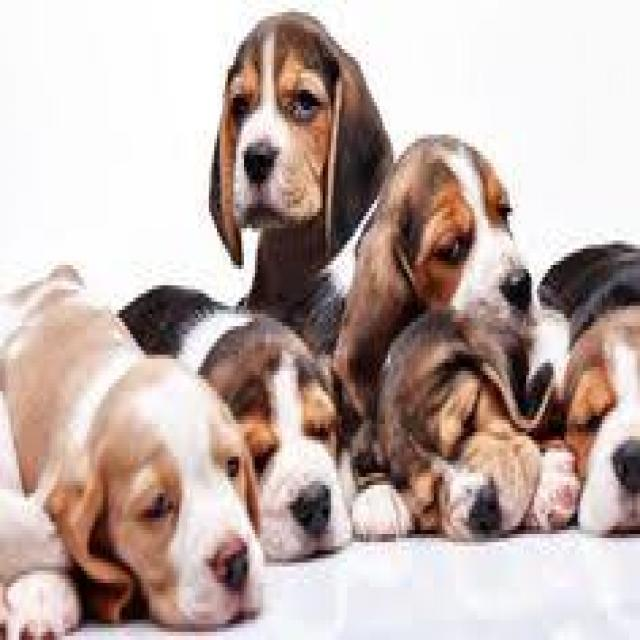Dog: (51, 340, 269, 640), (198, 5, 393, 267), (367, 327, 535, 542), (221, 312, 359, 560), (386, 127, 537, 320), (552, 299, 640, 543)
